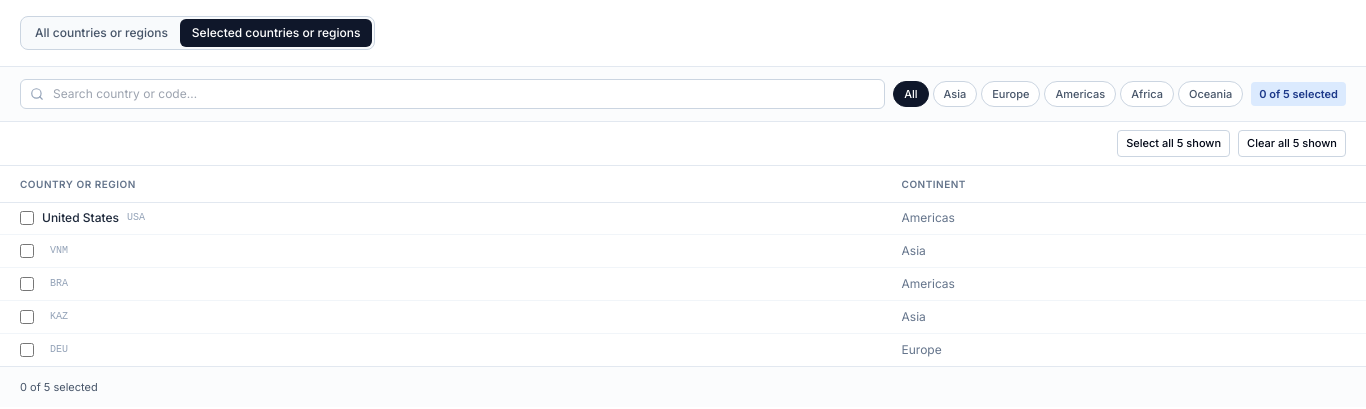
Test: select all / clear all address only what is shown › warns while a filter is narrowing the list, and not otherwise
Expected: the element with test id "territory-picker-filter-strip" does not show "Filter active"
Click the button "Asia": (955, 94) [932, 81, 977, 107]
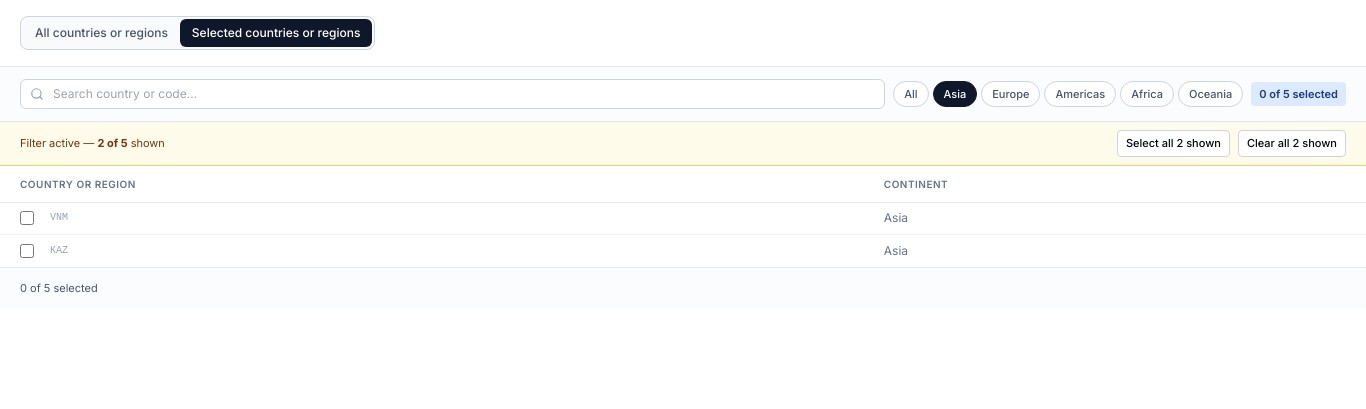
Expected: the element with test id "territory-picker-filter-strip" shows "Filter active — 2 of 5 shown", [0, 122, 1365, 166]
